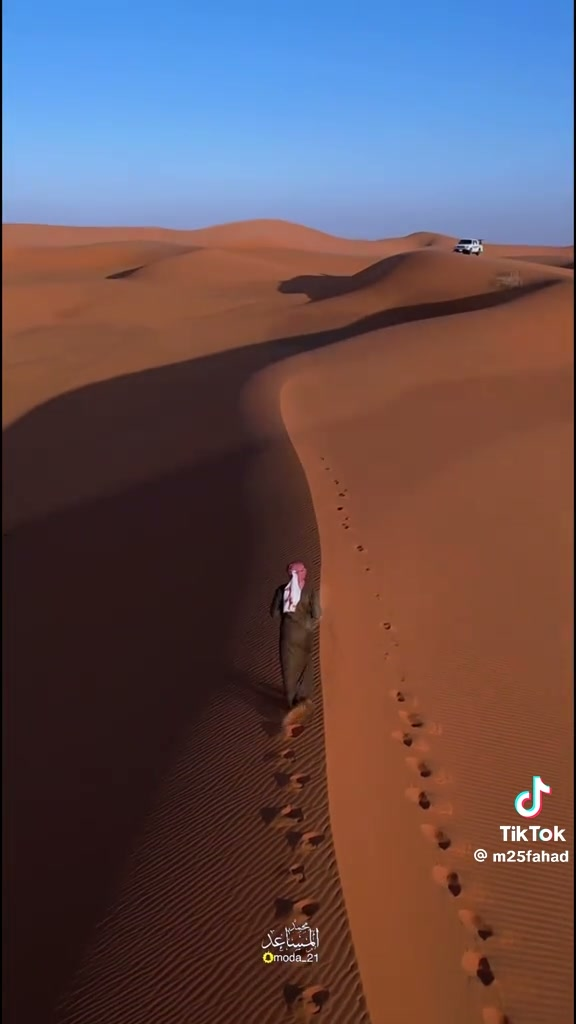human_foot_print: (390, 679, 452, 811), (270, 562, 320, 708), (389, 676, 452, 786), (283, 983, 329, 1023), (275, 897, 319, 925), (461, 950, 495, 986), (458, 909, 493, 941), (260, 804, 303, 829), (286, 829, 324, 857), (432, 866, 462, 896), (420, 823, 451, 850), (392, 730, 429, 752), (274, 771, 310, 791), (405, 787, 431, 810), (405, 757, 433, 778), (264, 747, 295, 765), (399, 709, 425, 728), (483, 1007, 511, 1023), (288, 861, 305, 883)
